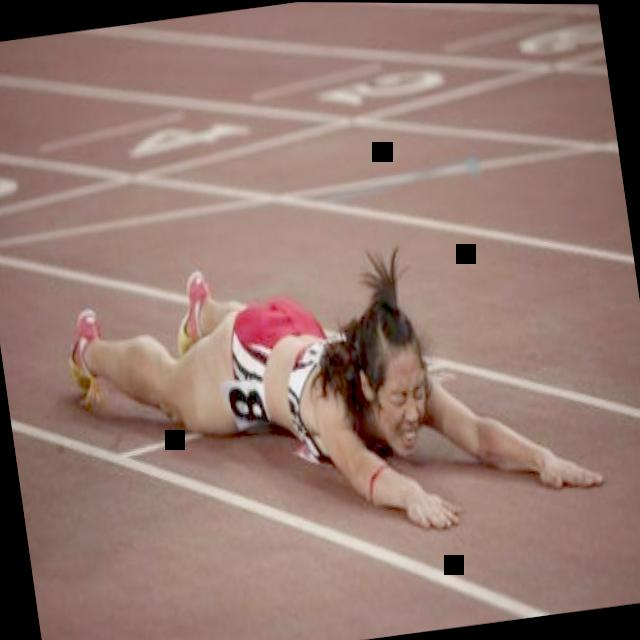Fall-Detected: (42, 191, 605, 585)
